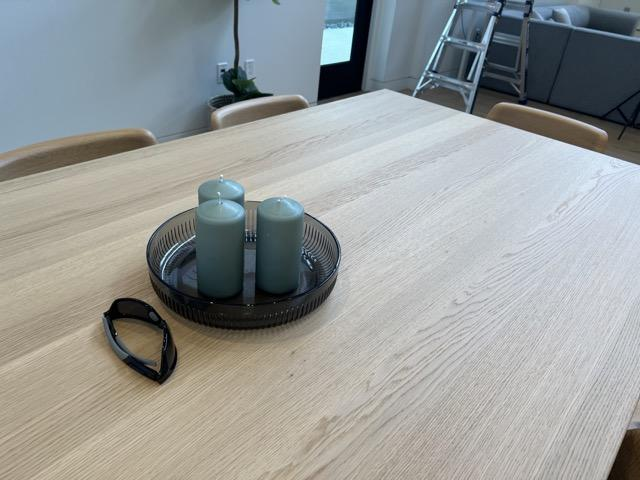Sunglasses: (103, 297, 178, 386)
